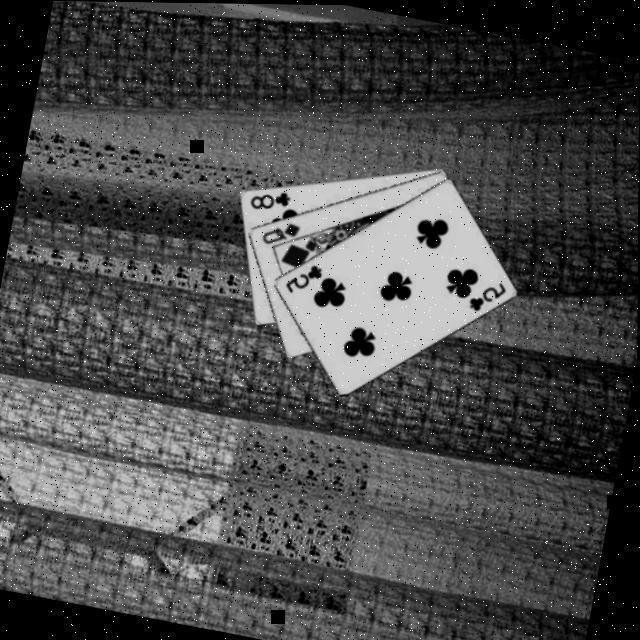5C: (462, 270, 508, 316), (279, 254, 325, 299)
8C: (244, 180, 292, 214)
QD: (256, 212, 302, 250)
